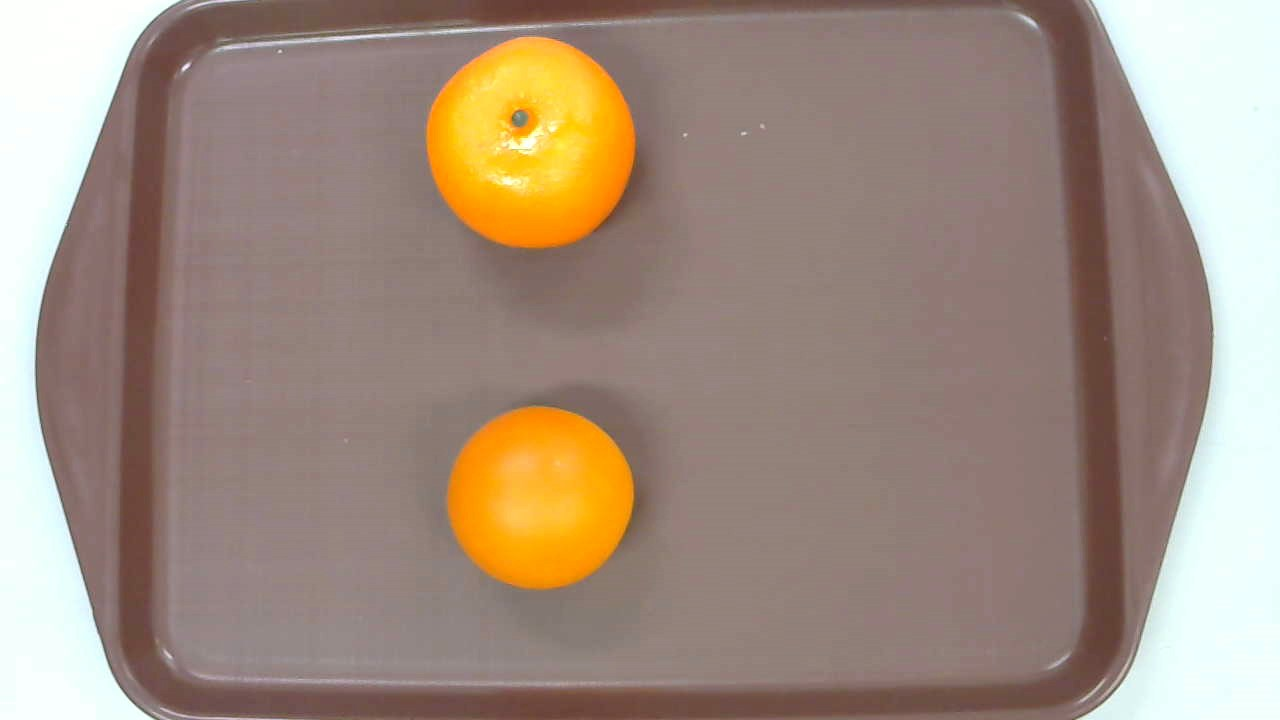bun: (446, 405, 634, 590)
orange: (425, 37, 636, 247)
